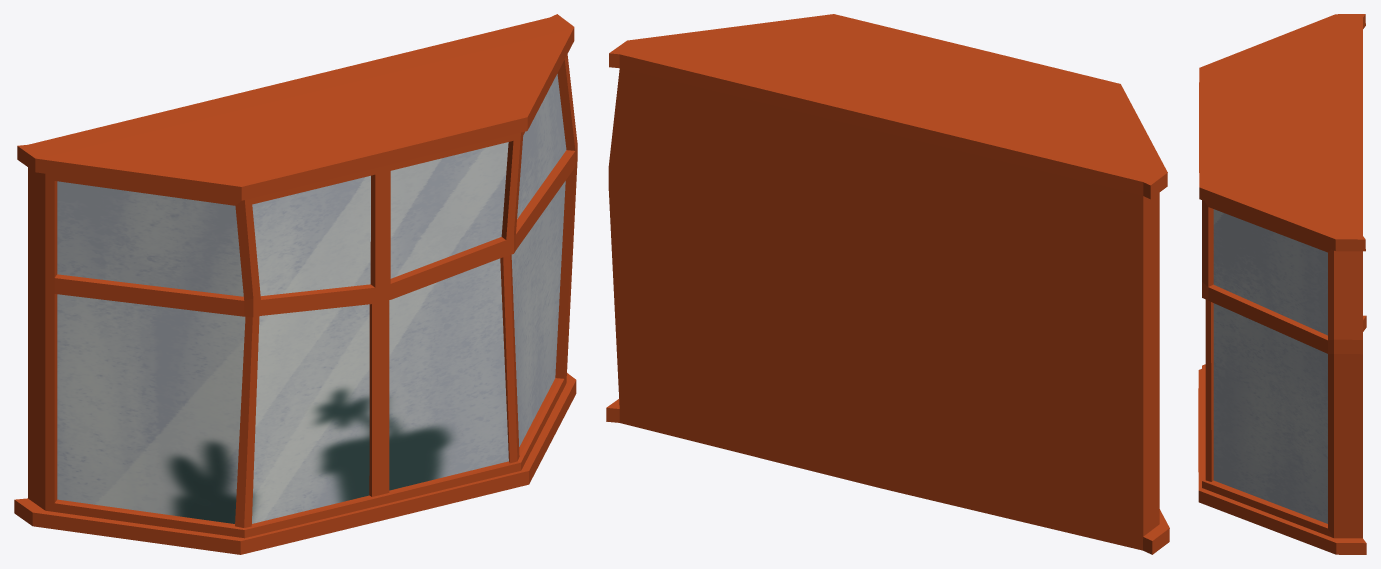
File: Window7.fbx
The picture shows the model from 3 angles, left to right: view 1: azimuth 30°, elevation 25°; view 2: azimuth 150°, elevation 25°; view 3: azimuth 270°, elevation 25°; orthographic projection. The views are drawn at different scales.
Visible parts, largest first — view 1: Cylinder.002; view 2: Cylinder.002; view 3: Cylinder.002.
Boxes of the visible parts, bbox=[...] form: Cylinder.002: bbox=[14, 14, 577, 554]; Cylinder.002: bbox=[606, 14, 1169, 554]; Cylinder.002: bbox=[1198, 14, 1366, 554].
Size of the model in its own units: 195 by 126 by 60.86.
